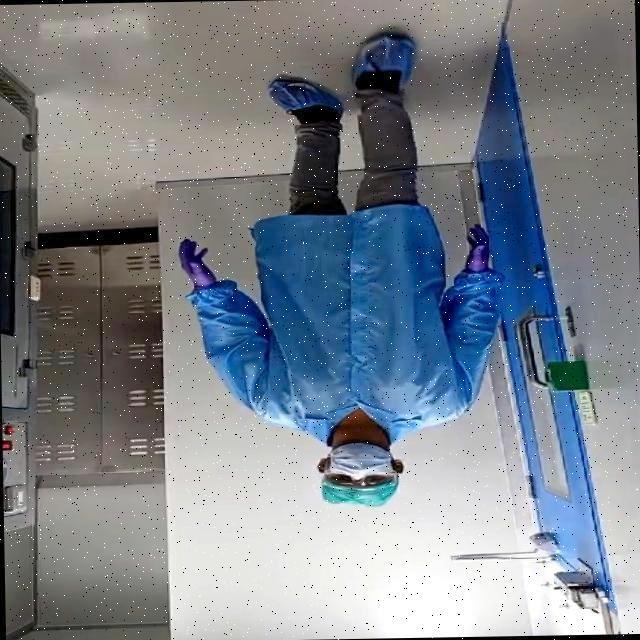apron: (172, 238, 215, 292), (462, 222, 492, 272)
